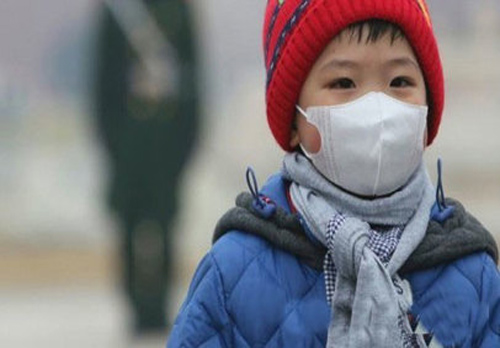face_mask: (303, 30, 429, 196)
